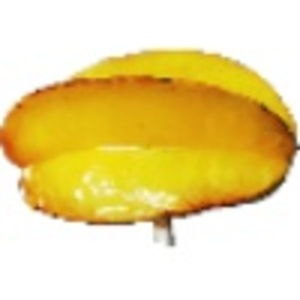carambola: (1, 47, 300, 239)
